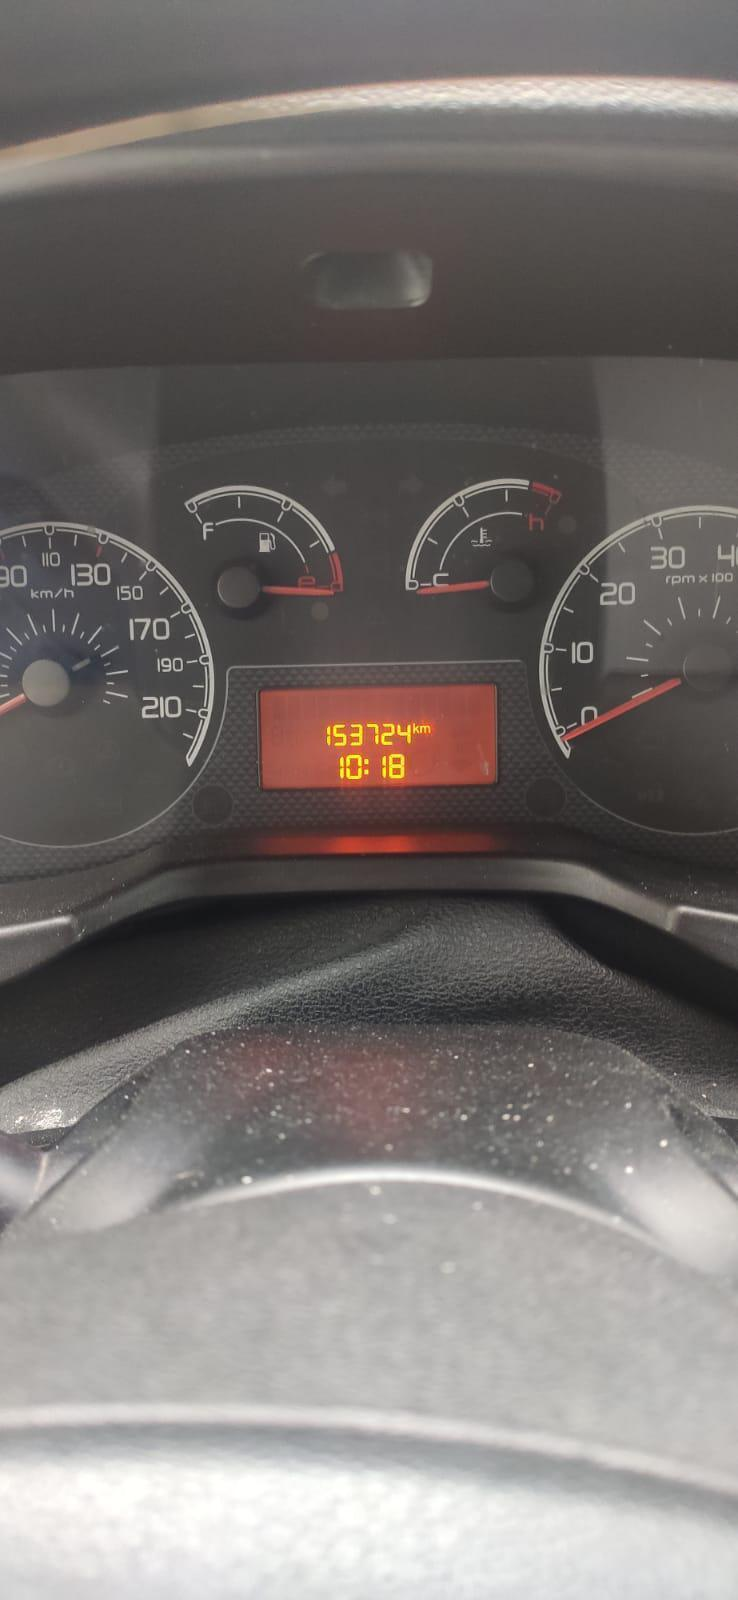0: (345, 753, 361, 780)
1: (337, 754, 345, 779), (325, 722, 332, 748), (381, 752, 386, 779)
2: (381, 722, 396, 745)
3: (348, 722, 364, 746)
4: (397, 722, 412, 744)
5: (332, 722, 346, 746)
7: (366, 720, 380, 744)
8: (389, 751, 405, 780)
X: (362, 756, 370, 776), (419, 723, 431, 733), (412, 722, 419, 733)
odometer: (257, 688, 497, 786)
